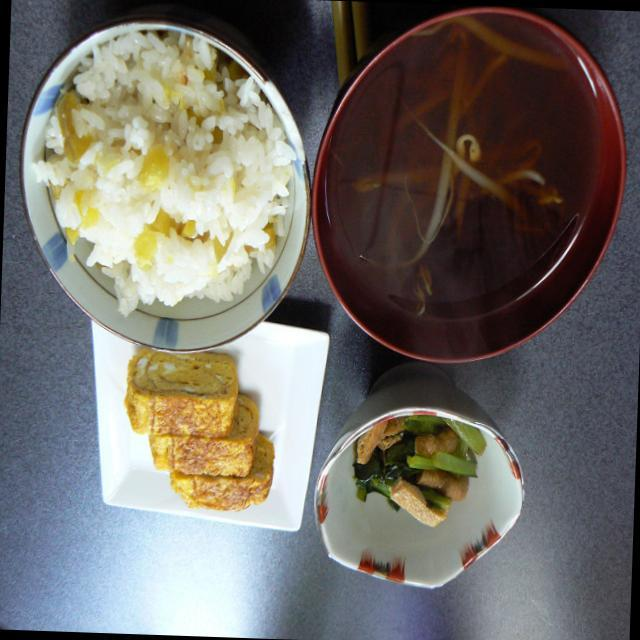Rice: (23, 9, 300, 336)
